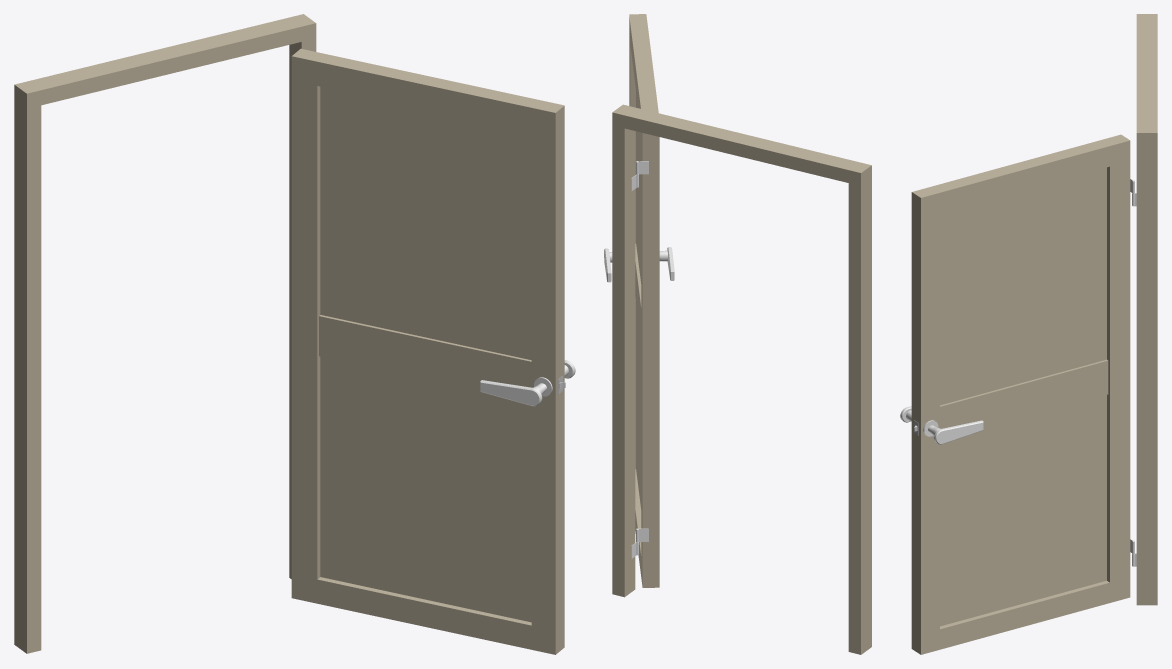
File: 930_door_open.glb
The picture shows the model from 3 angles, left to right: view 1: azimuth 30°, elevation 25°; view 2: azimuth 150°, elevation 25°; view 3: azimuth 270°, elevation 25°; orthographic projection. The views are drawn at different scales.
Parts seen in each view (by area): view 1: door, waku; view 2: waku, door; view 3: door, waku.
Boxes of the visible parts, <box> form: door: <box>291,48,575,654</box>; waku: <box>14,14,316,653</box>; waku: <box>612,104,871,654</box>; door: <box>604,14,674,587</box>; door: <box>900,134,1134,654</box>; waku: <box>1132,14,1157,605</box>.
Size of the model in its own units: 1.49 by 1.85 by 0.9136.
